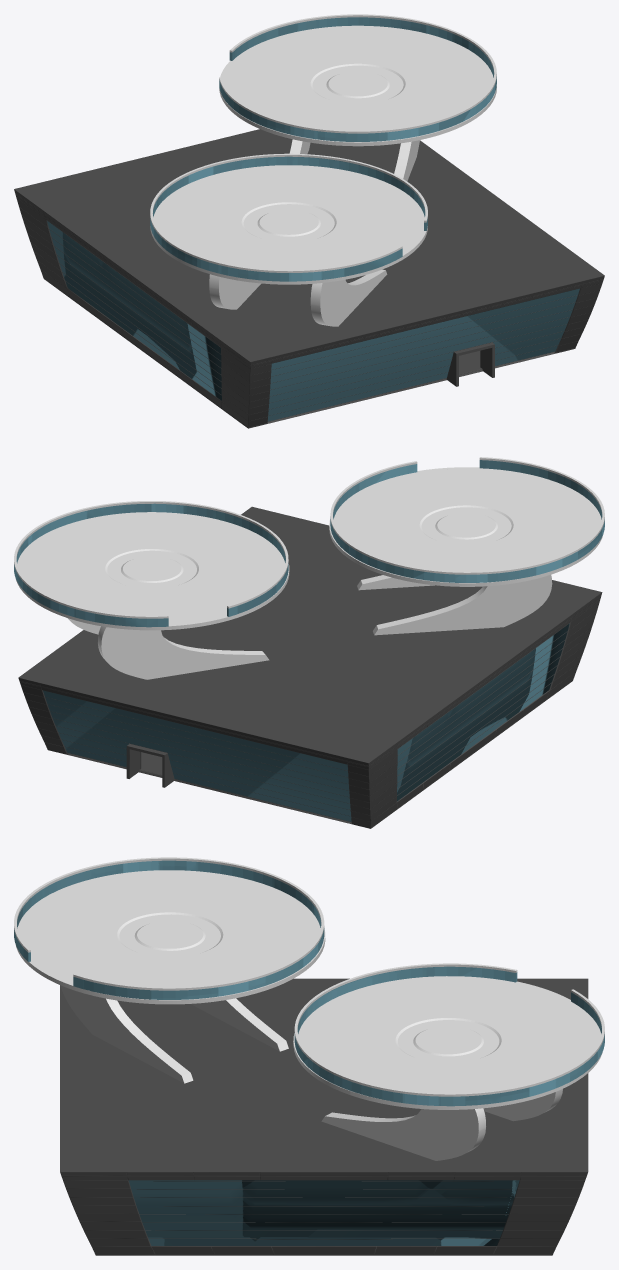
3 views of the same model, one above another, from view 1: azimuth 30°, elevation 25°; view 2: azimuth 150°, elevation 25°; view 3: azimuth 270°, elevation 25° (orthographic). The views are drawn at different scales.
Parts seen in each view (by area): view 1: SM_BuildingBase_v2_Glass_; view 2: SM_BuildingBase_v2_Glass_; view 3: SM_BuildingBase_v2_Glass_.
Part boxes in pixels (bbox=[...]): SM_BuildingBase_v2_Glass_: bbox=[14, 14, 604, 428]; SM_BuildingBase_v2_Glass_: bbox=[14, 457, 604, 828]; SM_BuildingBase_v2_Glass_: bbox=[14, 857, 604, 1255].
Bounding box in the file's own units: 4519 × 1729 × 4760.
4 materials, 2 textured.
